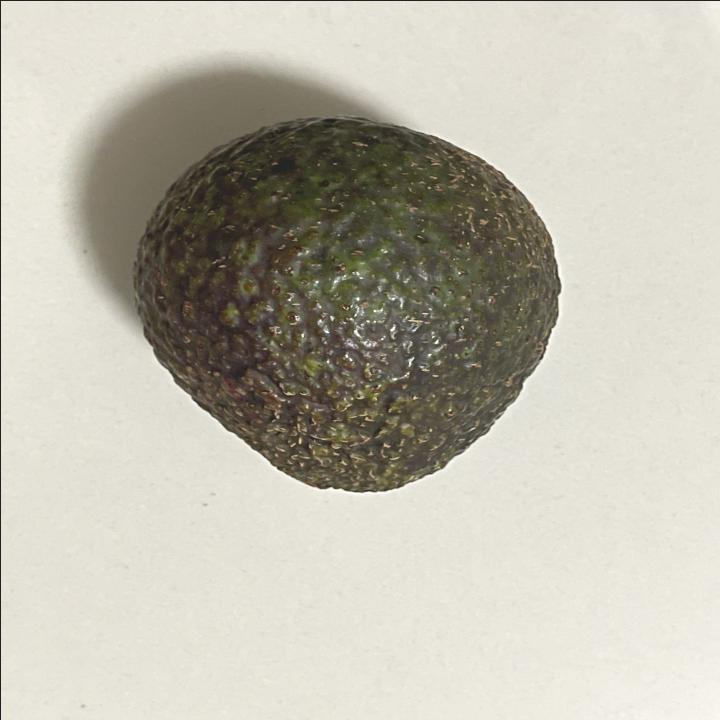Level1: (122, 106, 579, 502)
